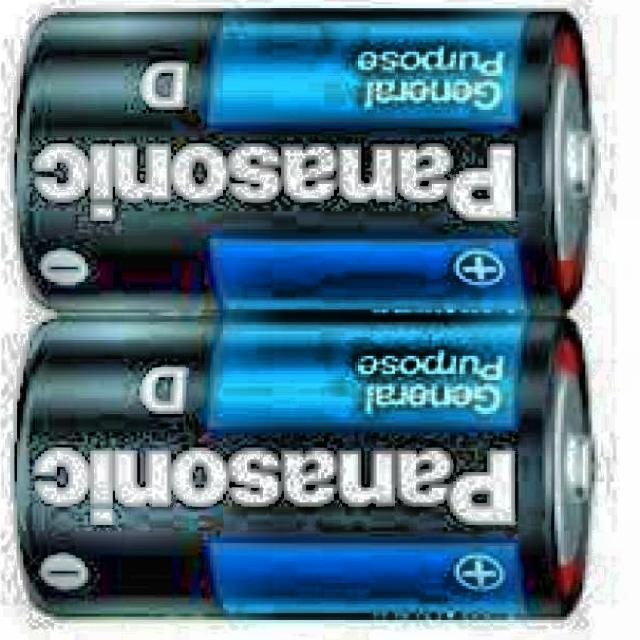battery: (17, 15, 595, 620), (16, 314, 595, 620), (17, 15, 595, 320)
